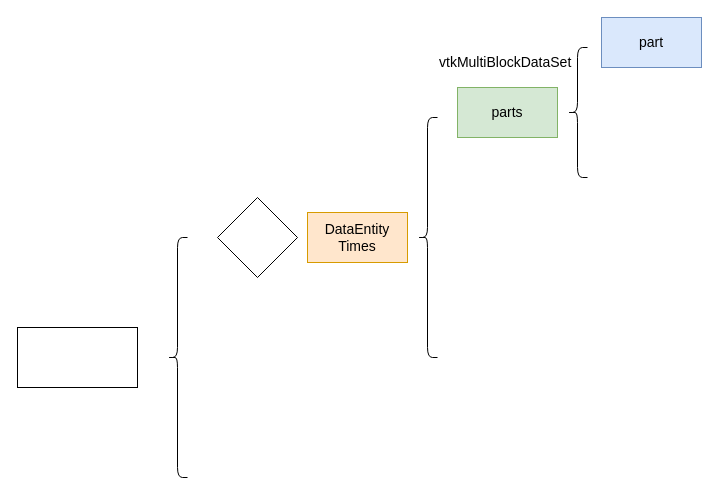
Image size: 719x495. Some labels were removed from this diagram. The shapes that lost their labels are listed below. From the top down, each one's centre as x and y in pixels, then its label:
point (257, 237): key
point (77, 357): DataModel files
